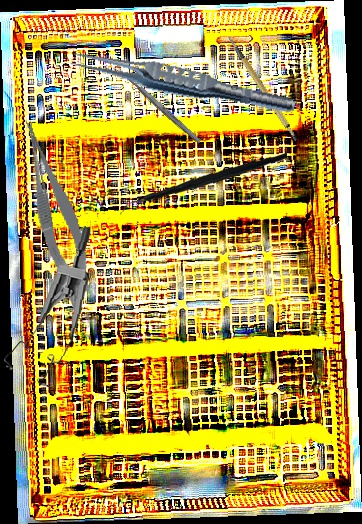Chopper: (120, 142, 287, 228)
Micro Scissor: (16, 113, 97, 301)
Scalpel Handle: (227, 27, 301, 149)
Speculum: (2, 221, 93, 390)
Surgical Spoon: (112, 63, 203, 145)
Tissue Forceps: (66, 44, 298, 119)
